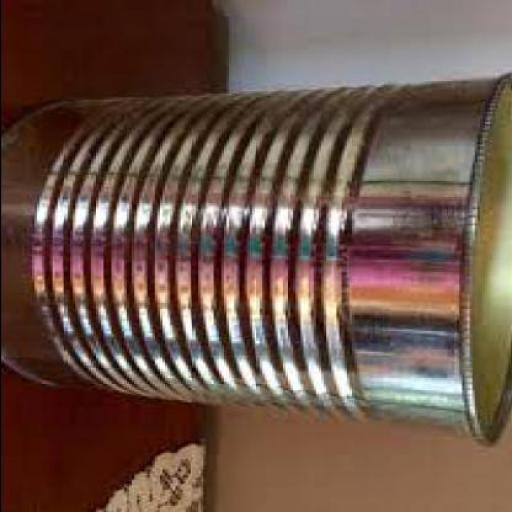metal: (2, 72, 511, 446)
